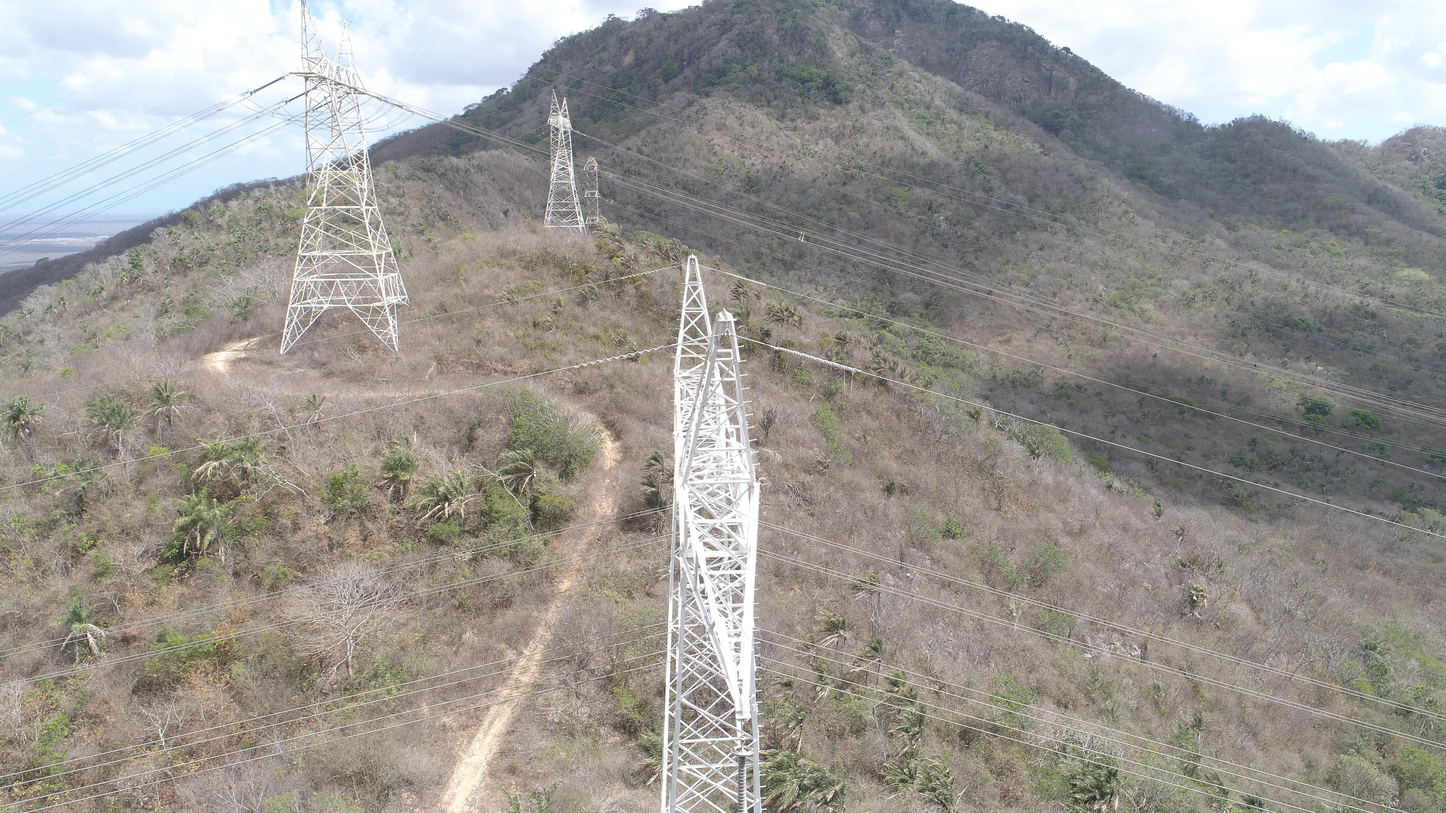power_tower: (655, 251, 771, 813), (247, 0, 410, 359), (541, 84, 583, 233), (576, 154, 615, 236)
